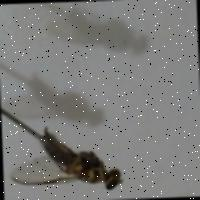Oriental-fruit-fly: (7, 102, 144, 198)
